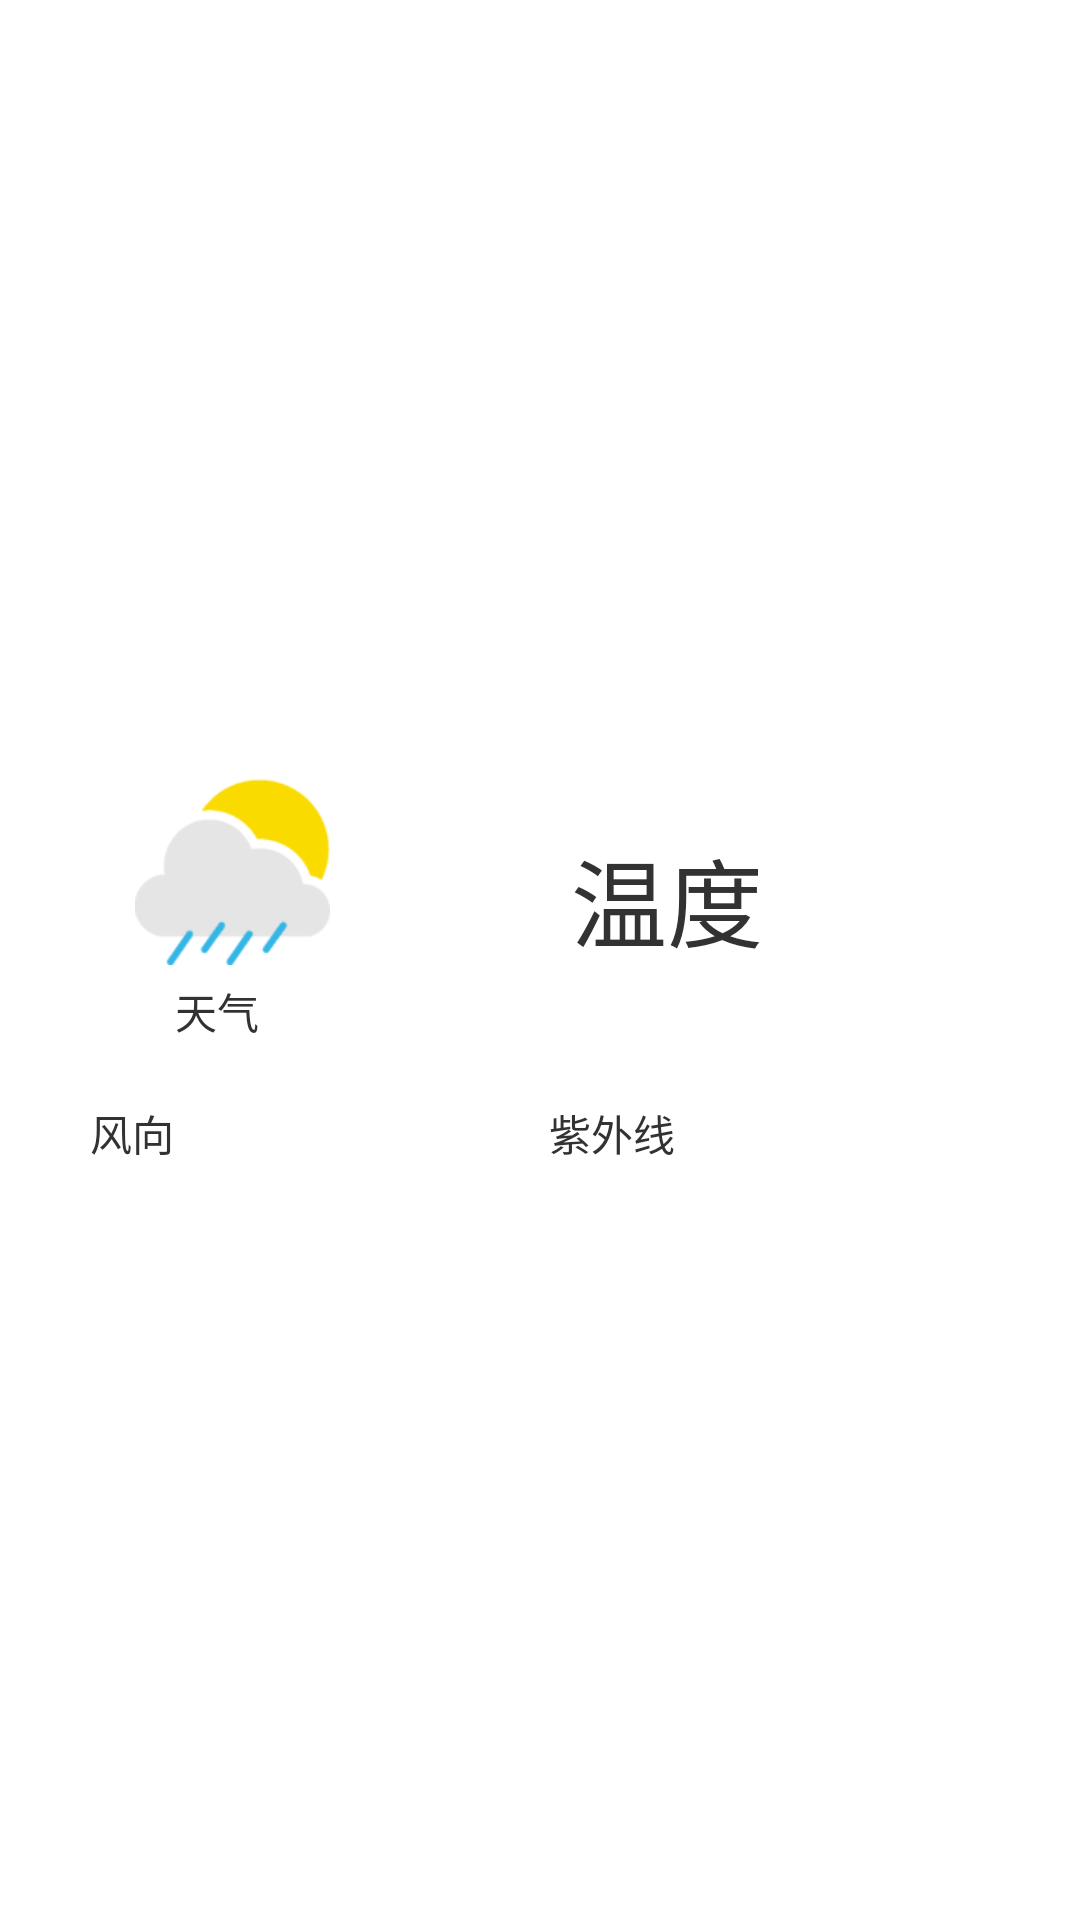

Point at icon controls on the screen. Image size 1080×1920, points as (x=x, y=y).
weather chance of rain: (x=232, y=872)
